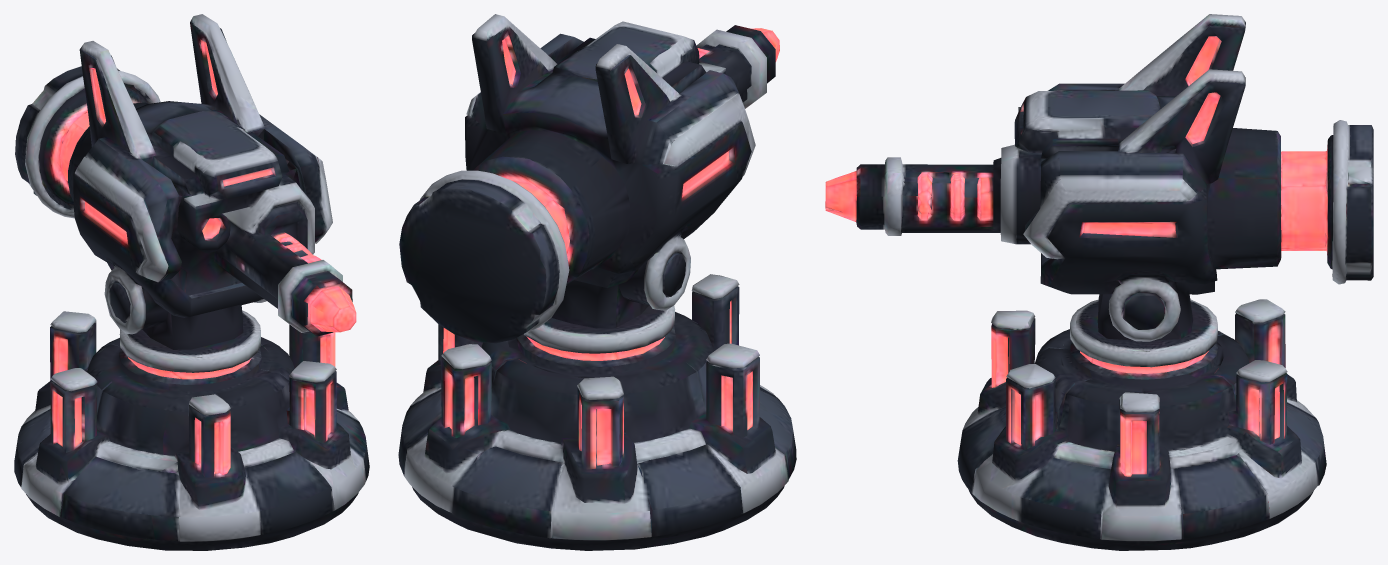
Rendered from warrior-5-tier-2.glb.
3 renders of one model, left to right at view 1: azimuth 30°, elevation 25°; view 2: azimuth 150°, elevation 25°; view 3: azimuth 270°, elevation 25°, orthographic. The views are drawn at different scales.
Visible parts, largest first — view 1: moving-assembly, fixed-platform; view 2: moving-assembly, fixed-platform; view 3: moving-assembly, fixed-platform.
Boxes of the visible parts, bbox=[...] form: moving-assembly: bbox=[15, 14, 356, 349]; fixed-platform: bbox=[14, 310, 369, 550]; moving-assembly: bbox=[399, 14, 779, 343]; fixed-platform: bbox=[398, 274, 796, 550]; moving-assembly: bbox=[825, 14, 1373, 341]; fixed-platform: bbox=[957, 299, 1326, 550].
Bounding box in the file's own units: 0.6614 × 0.8579 × 0.9818.
Materials: 1 (1 with a texture image).
